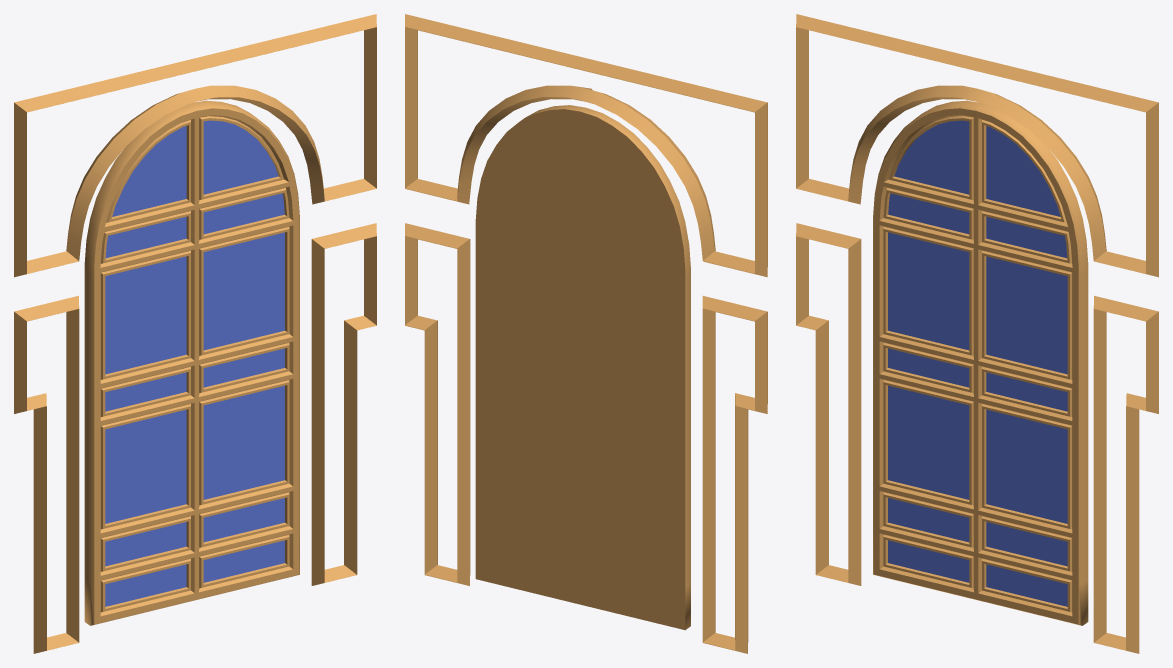
Rendered from SP_House13_Window03.fbx.
3 views of the same model, side by side, from view 1: azimuth 30°, elevation 25°; view 2: azimuth 150°, elevation 25°; view 3: azimuth 330°, elevation 25° (orthographic).
Visible parts, largest first — view 1: SP_House13_Window03; view 2: SP_House13_Window03; view 3: SP_House13_Window03.
Part boxes in pixels (x1,y1,x2,y2): SP_House13_Window03: [14, 14, 376, 653]; SP_House13_Window03: [405, 14, 767, 653]; SP_House13_Window03: [796, 14, 1158, 653].
Bounding box in the file's own units: 1.72 × 2.52 × 0.107.
